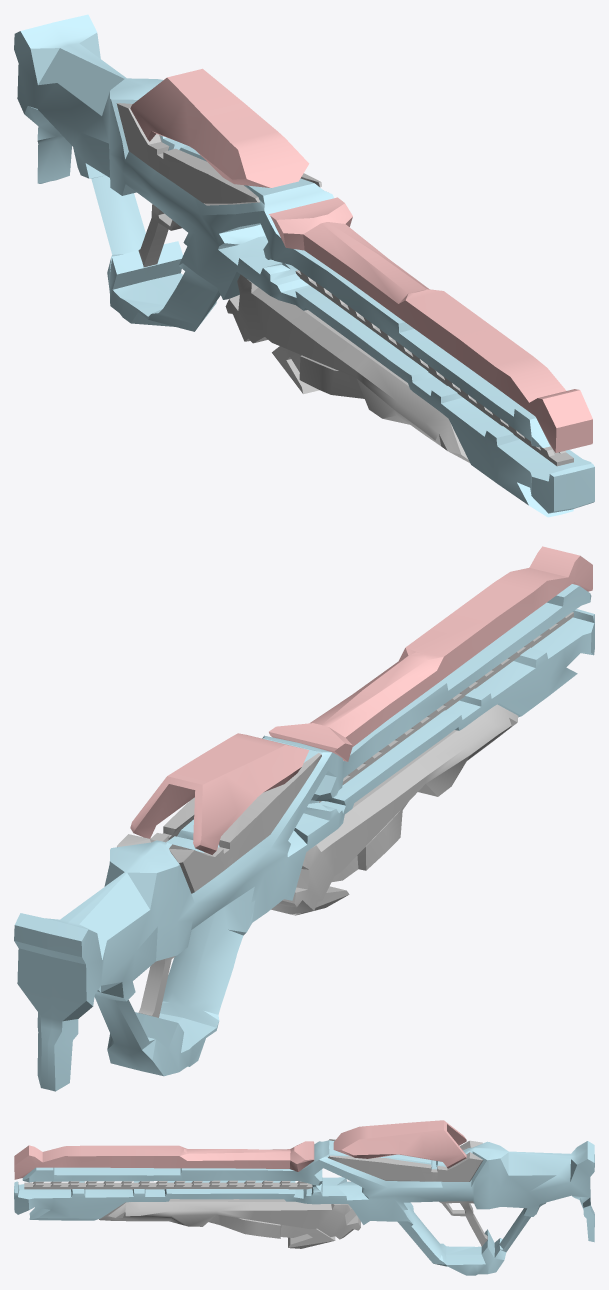
Rendered from electricGun.fbx.
3 views of the same model, one above another, from view 1: azimuth 30°, elevation 25°; view 2: azimuth 150°, elevation 25°; view 3: azimuth 270°, elevation 25° (orthographic). The views are drawn at different scales.
Visible parts, largest first — view 1: electricGun; view 2: electricGun; view 3: electricGun.
Boxes of the visible parts, x1=… form: electricGun: x1=14, y1=14, x2=594, y2=517; electricGun: x1=14, y1=546, x2=594, y2=1091; electricGun: x1=14, y1=1120, x2=594, y2=1275.
Bounding box in the file's own units: 1.52 × 4.91 × 18.19.
